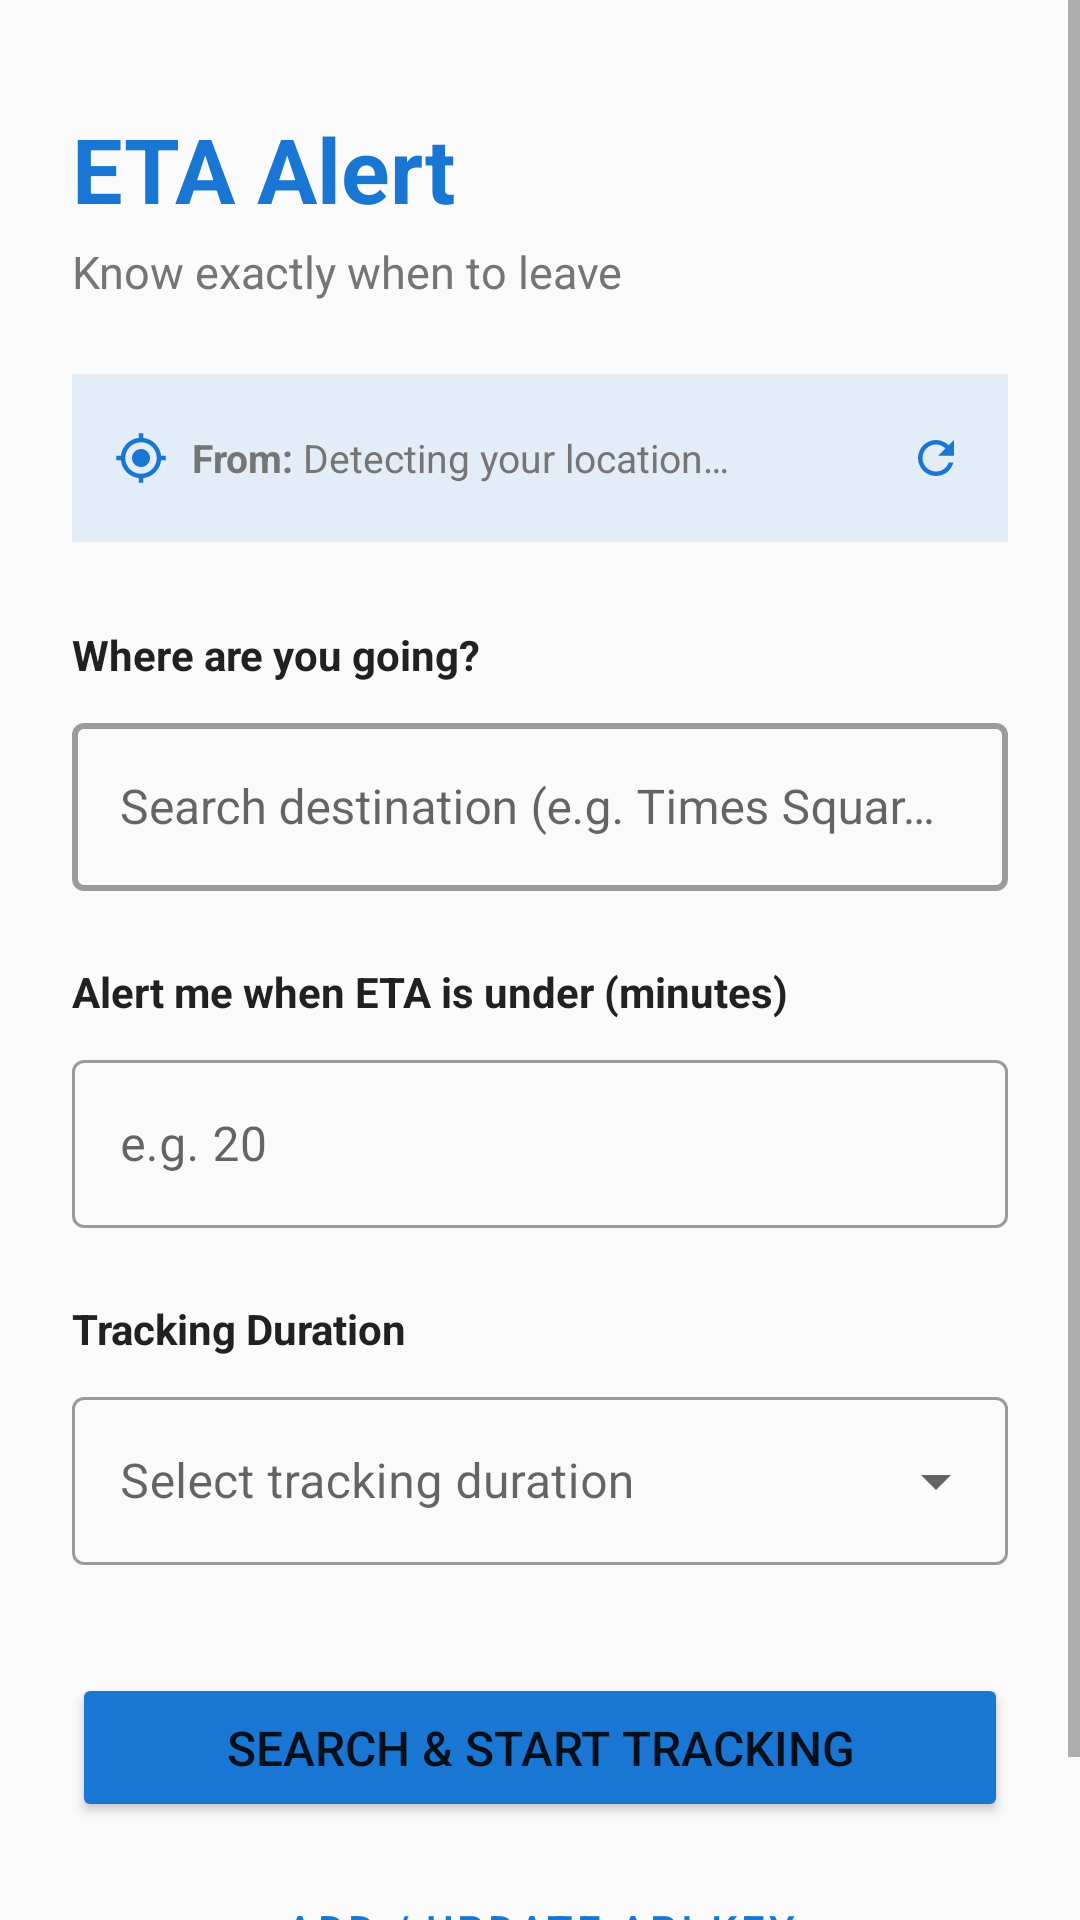

Where icons sit on this 1080 x 1920 app screen, as {"left": x1, "top": y1, "right": x2, "bottom": y2}:
Current location: {"left": 116, "top": 433, "right": 166, "bottom": 483}
Refresh location: {"left": 918, "top": 440, "right": 954, "bottom": 476}
